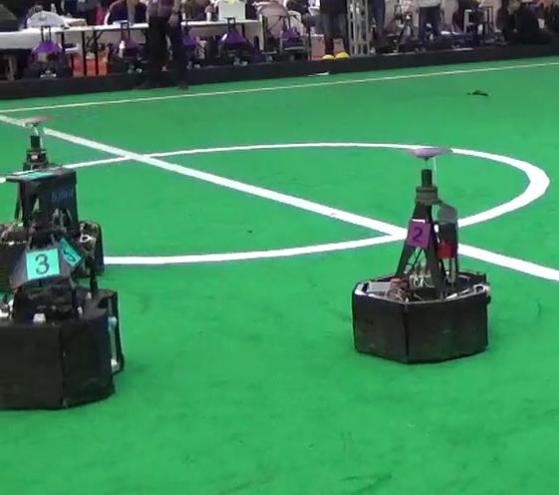robot: (1, 160, 143, 416), (346, 140, 494, 367)
